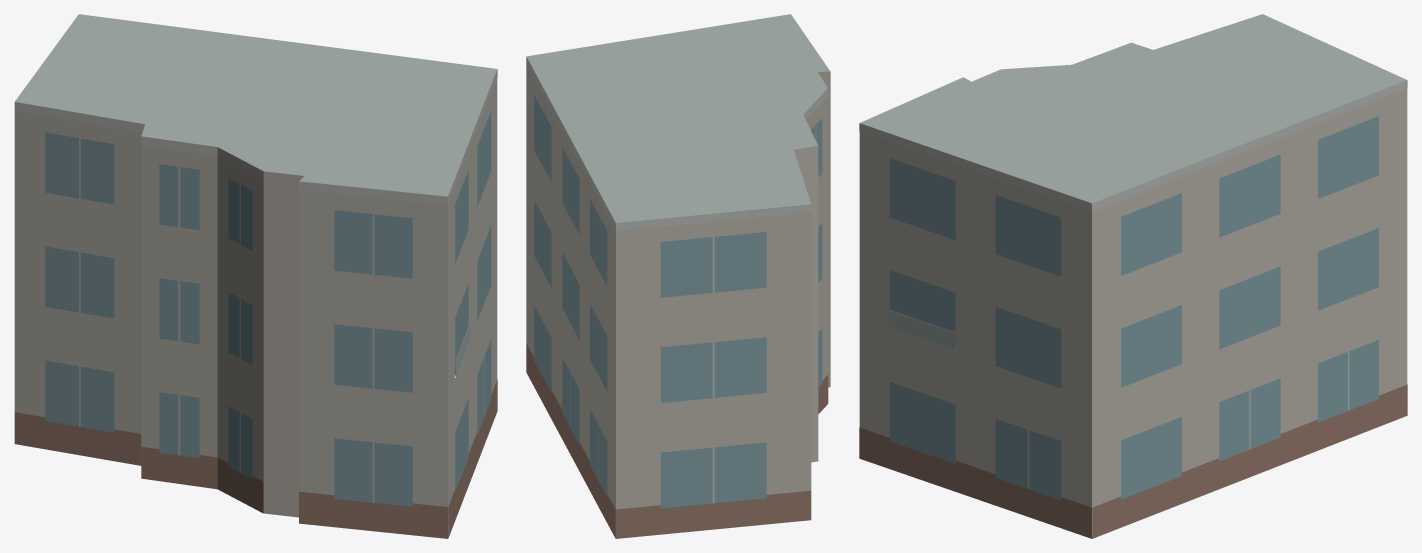
The model's file is survey-upis-32817190.glb.
3 views of the same model, side by side, from view 1: azimuth 30°, elevation 25°; view 2: azimuth 150°, elevation 25°; view 3: azimuth 270°, elevation 25° (orthographic). The views are drawn at different scales.
Visible parts, largest first — view 1: survey-upis-32817190.tmp; view 2: survey-upis-32817190.tmp; view 3: survey-upis-32817190.tmp.
Part boxes in pixels (left/top/right/bottom): survey-upis-32817190.tmp: left=14, top=14, right=497, bottom=538; survey-upis-32817190.tmp: left=526, top=14, right=830, bottom=538; survey-upis-32817190.tmp: left=859, top=14, right=1407, bottom=538.
Size of the model in its own units: 11.63 by 9.6 by 14.22.
